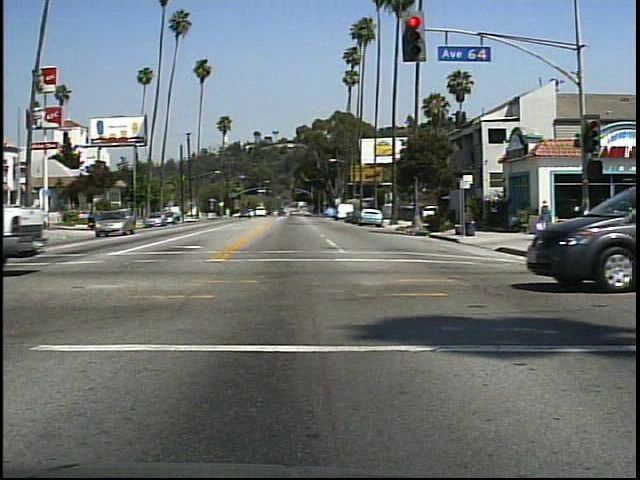person: (535, 194, 562, 235)
